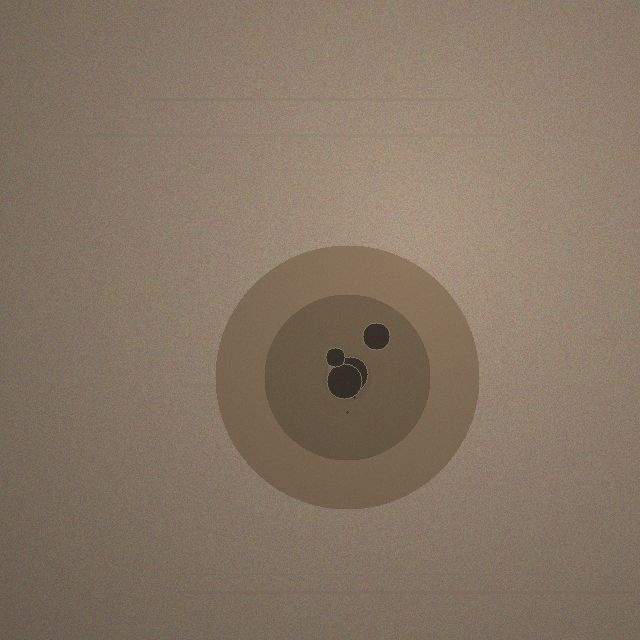shrinkage: (215, 245, 479, 509)
